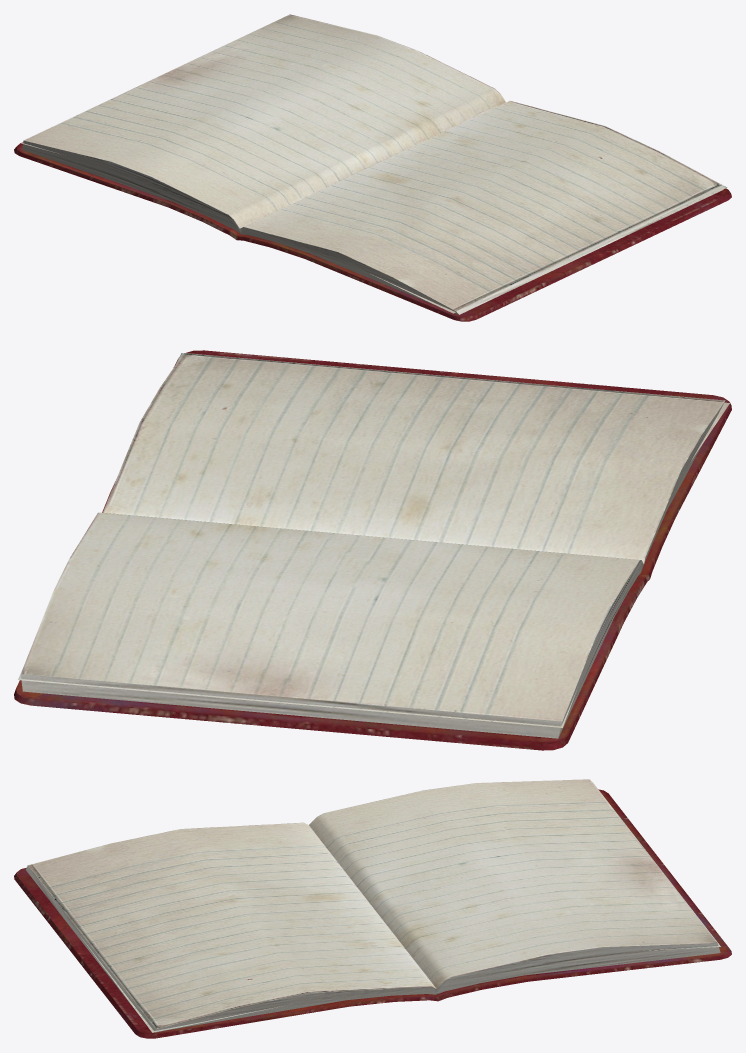
Rendered from note.glb.
3 renders of one model, top to bottom at view 1: azimuth 30°, elevation 25°; view 2: azimuth 150°, elevation 25°; view 3: azimuth 270°, elevation 25°, orthographic. The views are drawn at different scales.
Parts seen in each view (by area): view 1: Notebook_50; view 2: Notebook_50; view 3: Notebook_50.
Boxes of the visible parts, x1,y1,x2,y2 form: Notebook_50: (14, 14, 731, 321); Notebook_50: (14, 350, 731, 750); Notebook_50: (14, 779, 731, 1038).
Size of the model in its own units: 0.1917 by 0.0105 by 0.2355.
Materials: 1 (1 with a texture image).
